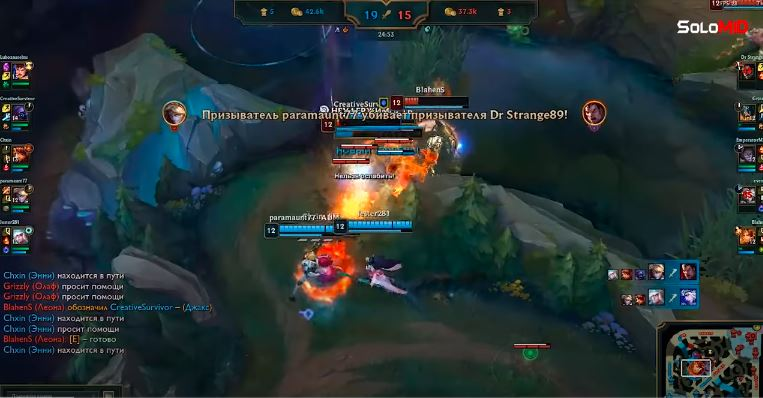bar: (329, 213, 415, 236), (262, 221, 360, 241), (329, 108, 421, 127), (388, 92, 473, 112), (317, 113, 407, 128), (708, 1, 762, 12)
